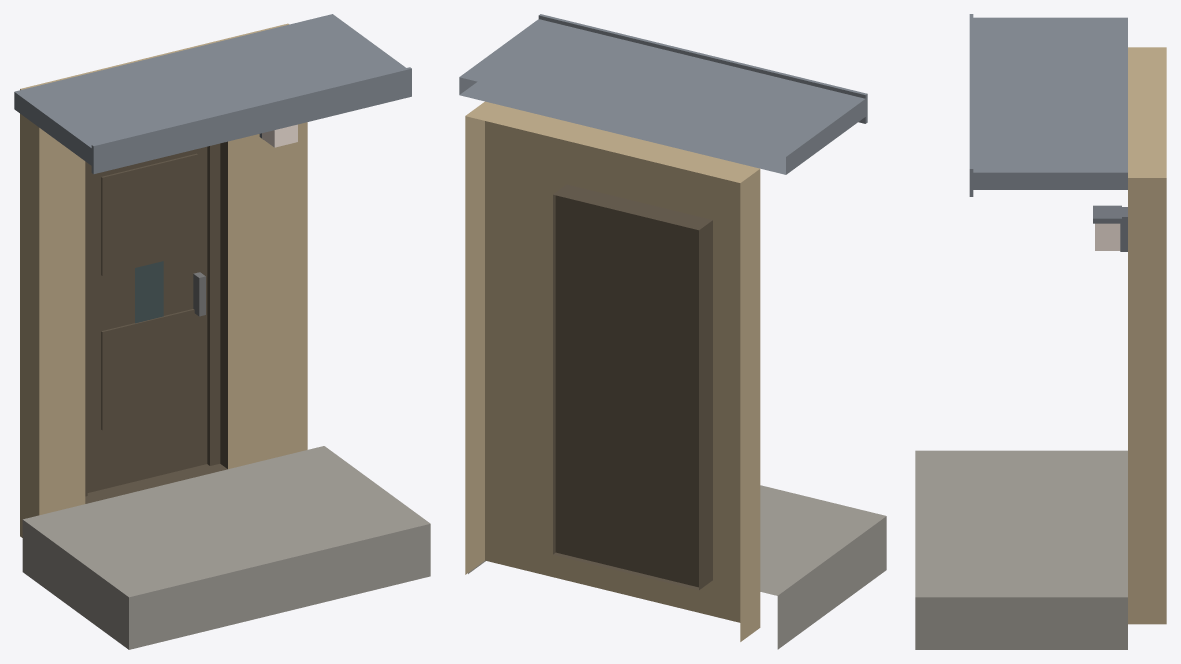
File: entrance_close.fbx
3 views of the same model, side by side, from view 1: azimuth 30°, elevation 25°; view 2: azimuth 150°, elevation 25°; view 3: azimuth 270°, elevation 25° (orthographic). The views are drawn at different scales.
Parts seen in each view (by area): view 1: a2015/0/entrance_close; view 2: a2015/0/entrance_close; view 3: a2015/0/entrance_close.
Boxes of the visible parts, x1,y1,x2,y2 form: a2015/0/entrance_close: [14, 14, 430, 649]; a2015/0/entrance_close: [459, 14, 886, 649]; a2015/0/entrance_close: [915, 14, 1166, 649].
Size of the model in its own units: 1.9 by 2.77 by 1.3.
